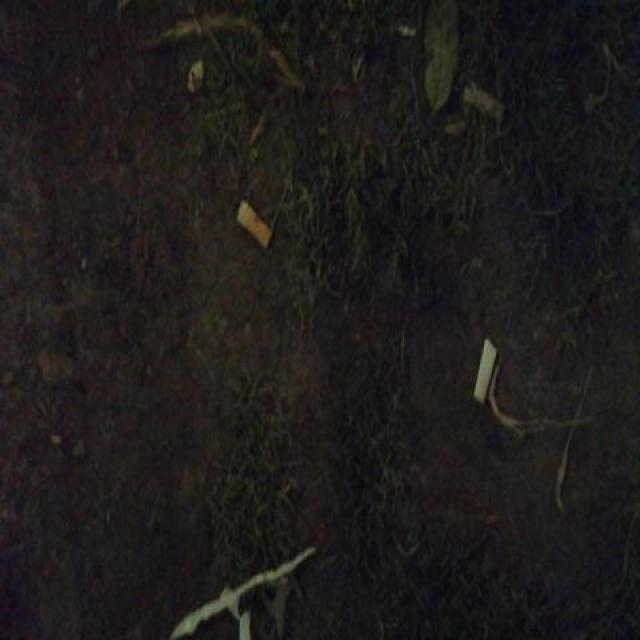non-organic waste: (233, 196, 274, 256), (462, 82, 510, 133), (469, 335, 500, 409)
